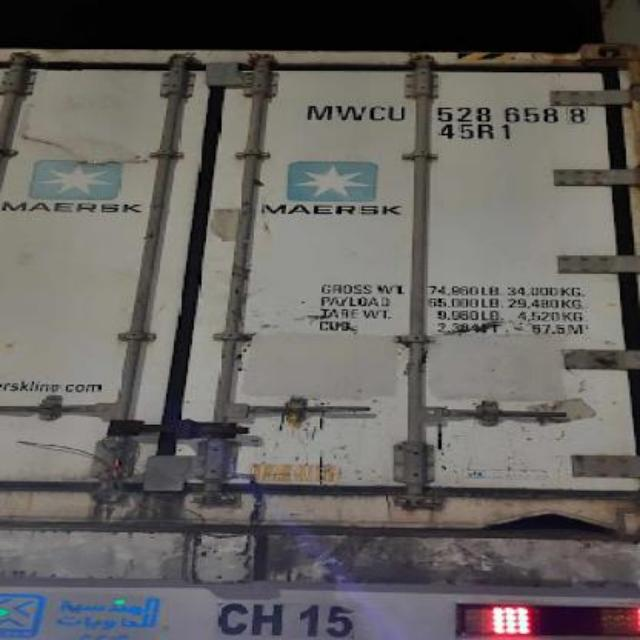2: (456, 102, 474, 124)
5: (436, 102, 456, 124), (520, 106, 544, 124)
6: (502, 106, 520, 124)
8: (472, 104, 498, 126), (562, 107, 594, 123), (540, 106, 564, 126)
C: (368, 102, 389, 125)
M: (304, 102, 340, 122)
U: (382, 105, 410, 123)
W: (336, 106, 368, 120)
